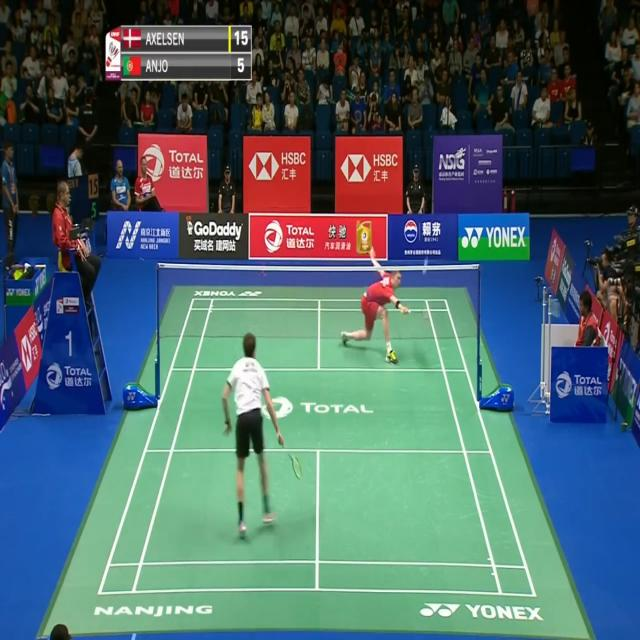Player1: (219, 324, 303, 550)
Player2: (336, 245, 434, 364)
